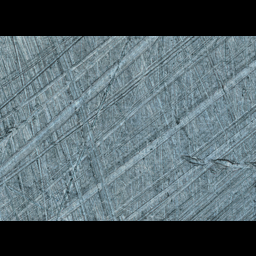d: (178, 150, 255, 176)
